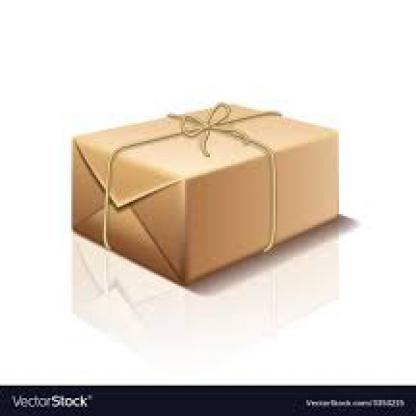paquete: (54, 82, 352, 284)
